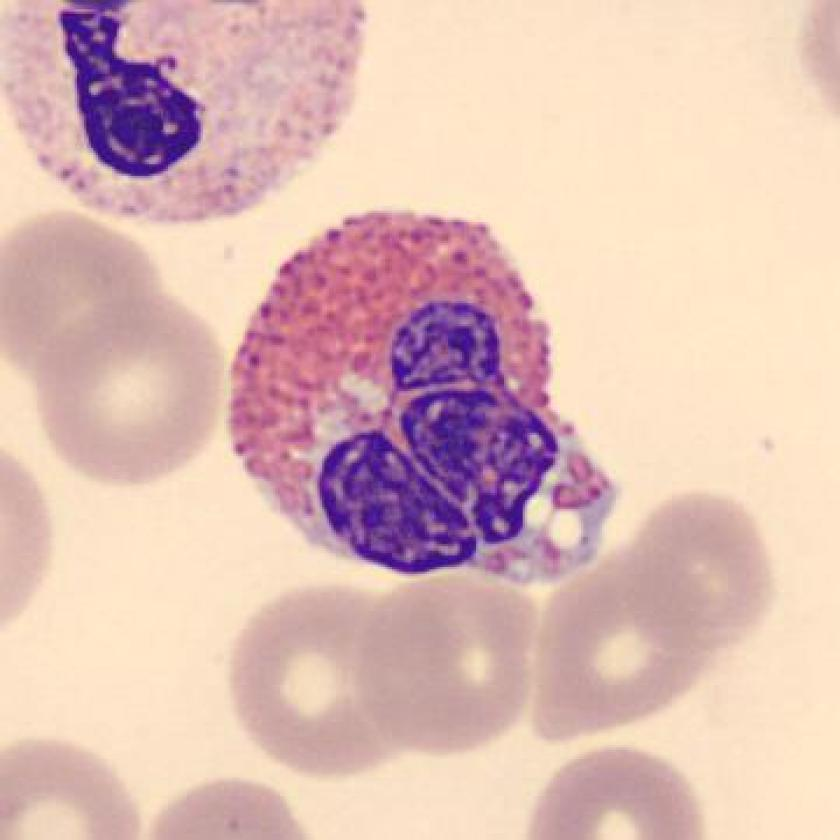eosinophil: (209, 195, 631, 598)
